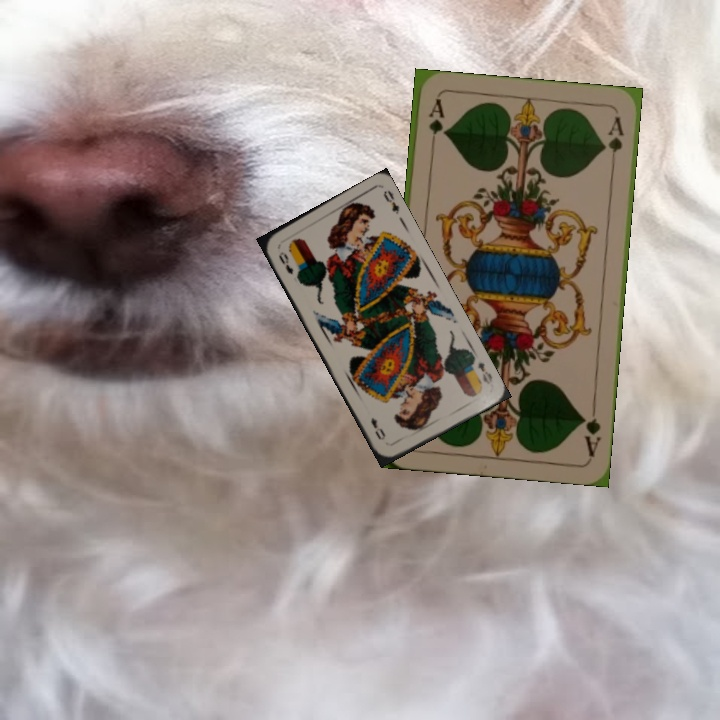EO: (275, 247, 296, 277), (474, 358, 495, 387)
GA: (578, 400, 603, 459), (424, 95, 446, 154)
